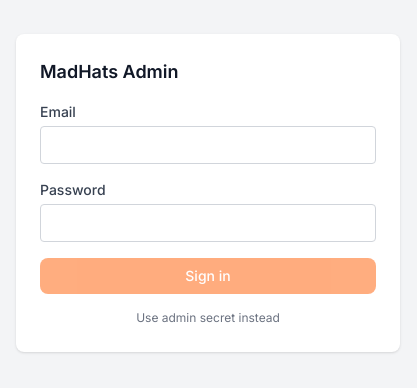
Test: AdminLogin › shows the error and stays logged out when email login fails
The width and height of the screenshot is (417, 388).
Type "a@x.com" into the field labelled "Email" at x=208, y=145, box [40, 126, 376, 164]
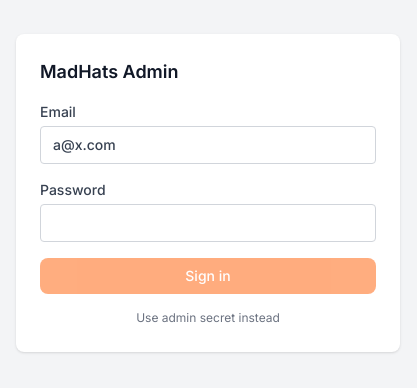
Type "wrong" into the password field labelled "Password" at x=208, y=223, box [40, 204, 376, 242]
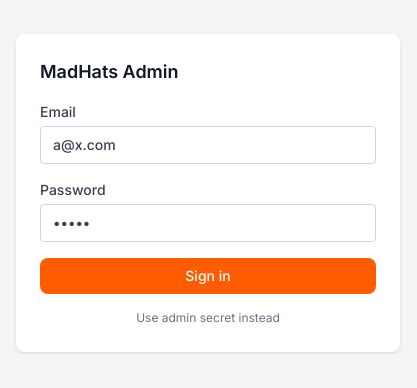
Click the button "Sign in" at x=208, y=276, box [40, 258, 376, 294]
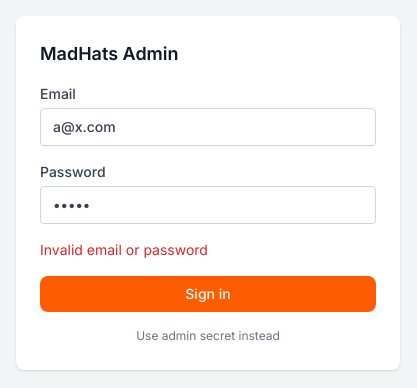
expect the text "Invalid email or password" is shown: met, box [40, 241, 208, 258]
